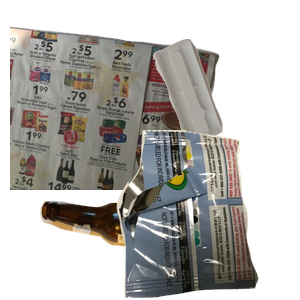glass: (37, 198, 236, 300)
paper: (10, 21, 222, 201)
plastic: (150, 36, 300, 173)
trash: (114, 130, 300, 300)
